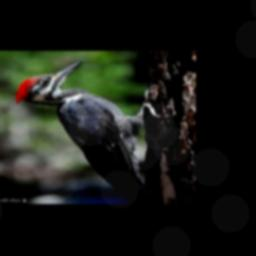Woodpecker: (15, 60, 161, 203)
